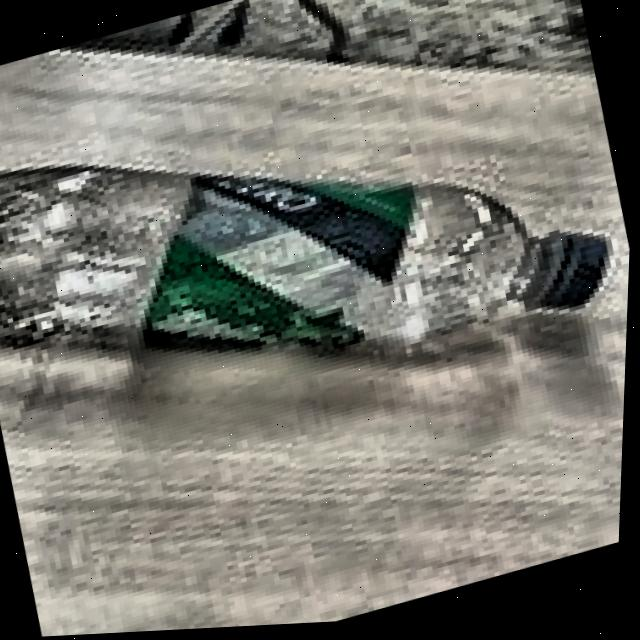plastic: (0, 0, 640, 501)
